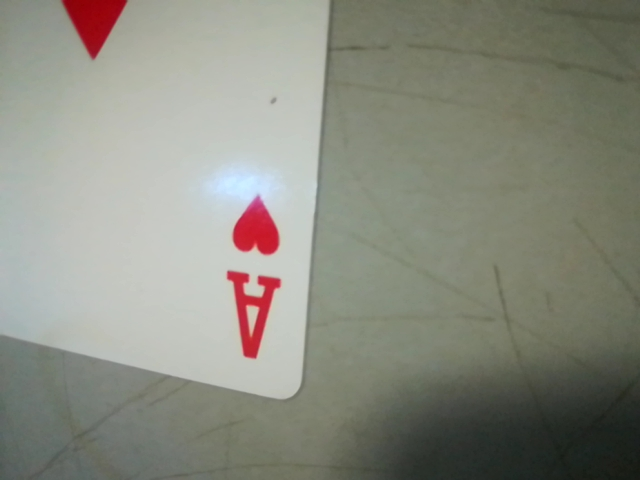hx a: (207, 183, 297, 383)
